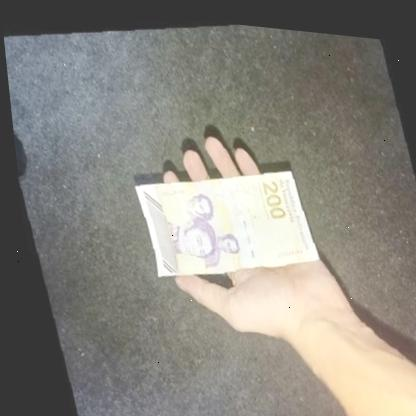two_hundred-front-vef: (125, 147, 319, 288)
